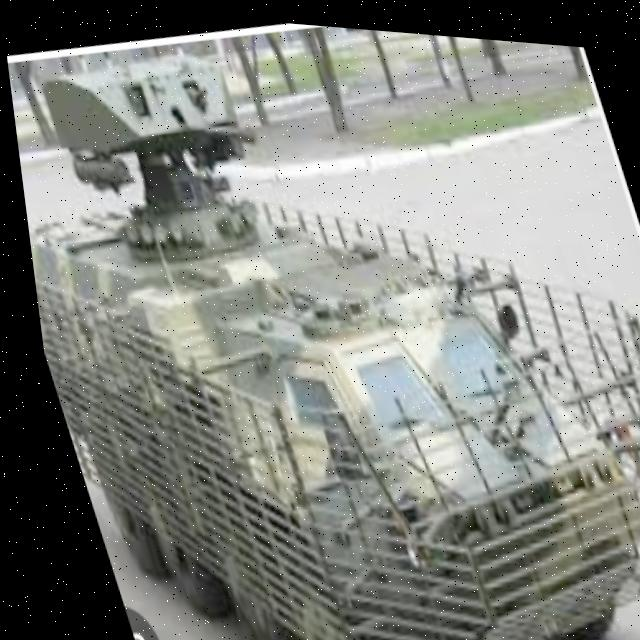MIL_APC: (2, 25, 640, 640)
